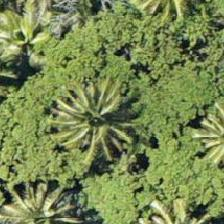coconut_tree: (52, 80, 142, 170), (0, 0, 64, 79), (0, 175, 82, 223)
